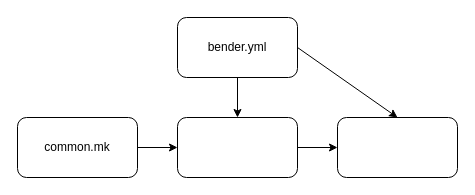
Some shapes in this 475 by 195 pixel diagram are drawn without their labels. The centre of each missing label's shape, as x and y in pixels:
"Makefile" goes at [237,147].
"vivado.tcl" goes at [397,147].
